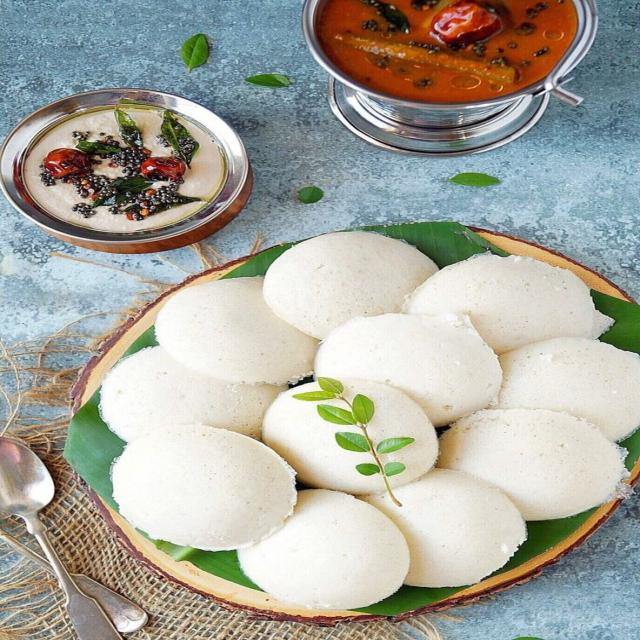idly: (101, 430, 293, 552), (231, 484, 413, 609), (260, 379, 439, 497), (155, 276, 333, 386), (271, 230, 445, 342), (436, 406, 620, 509), (97, 348, 289, 445), (429, 249, 603, 353), (320, 319, 487, 416), (366, 483, 517, 588), (493, 339, 639, 440), (164, 278, 276, 318)
